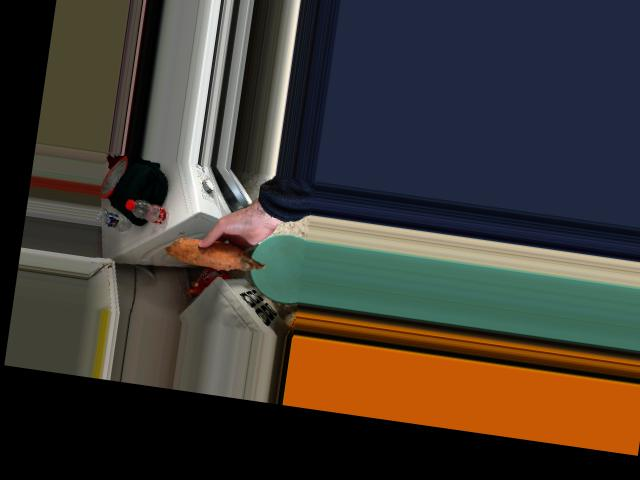sweet_potato: (175, 232, 259, 274)
